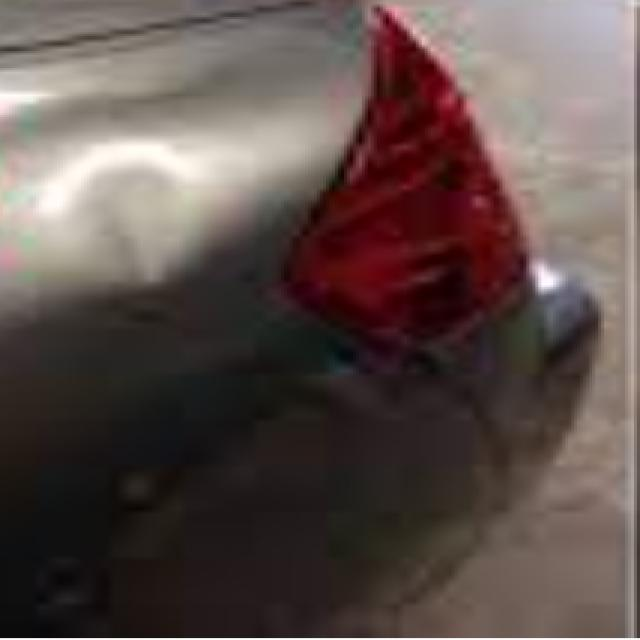dents: (57, 124, 230, 297)
